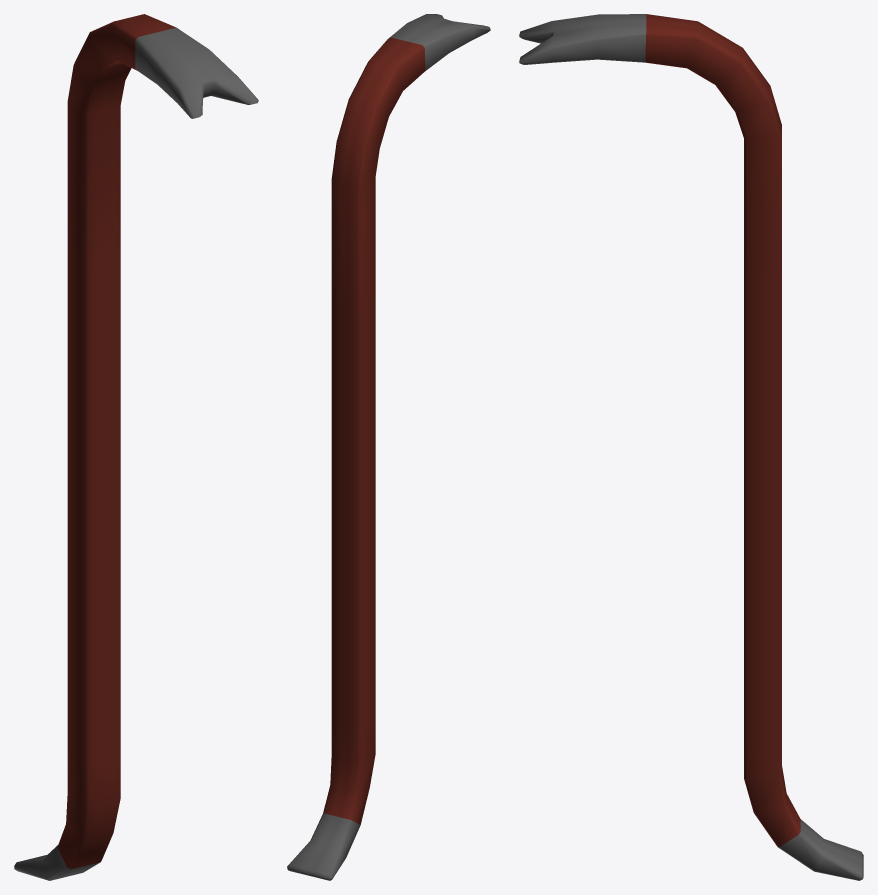
The model's file is lomBIG.fbx.
3 views of the same model, side by side, from view 1: azimuth 30°, elevation 25°; view 2: azimuth 150°, elevation 25°; view 3: azimuth 270°, elevation 25° (orthographic). The views are drawn at different scales.
Parts seen in each view (by area): view 1: Cube; view 2: Cube; view 3: Cube.
Boxes of the visible parts, left/top/right/bottom form: Cube: left=14, top=14, right=258, bottom=880; Cube: left=287, top=14, right=490, bottom=880; Cube: left=519, top=14, right=863, bottom=880.
Bounding box in the file's own units: 7.88 × 100 × 36.95.
